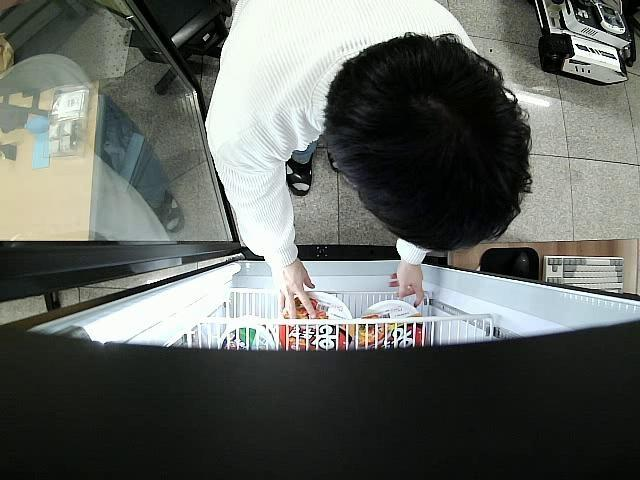10_wangTtukkeong: (278, 292, 354, 354), (354, 300, 427, 354)
